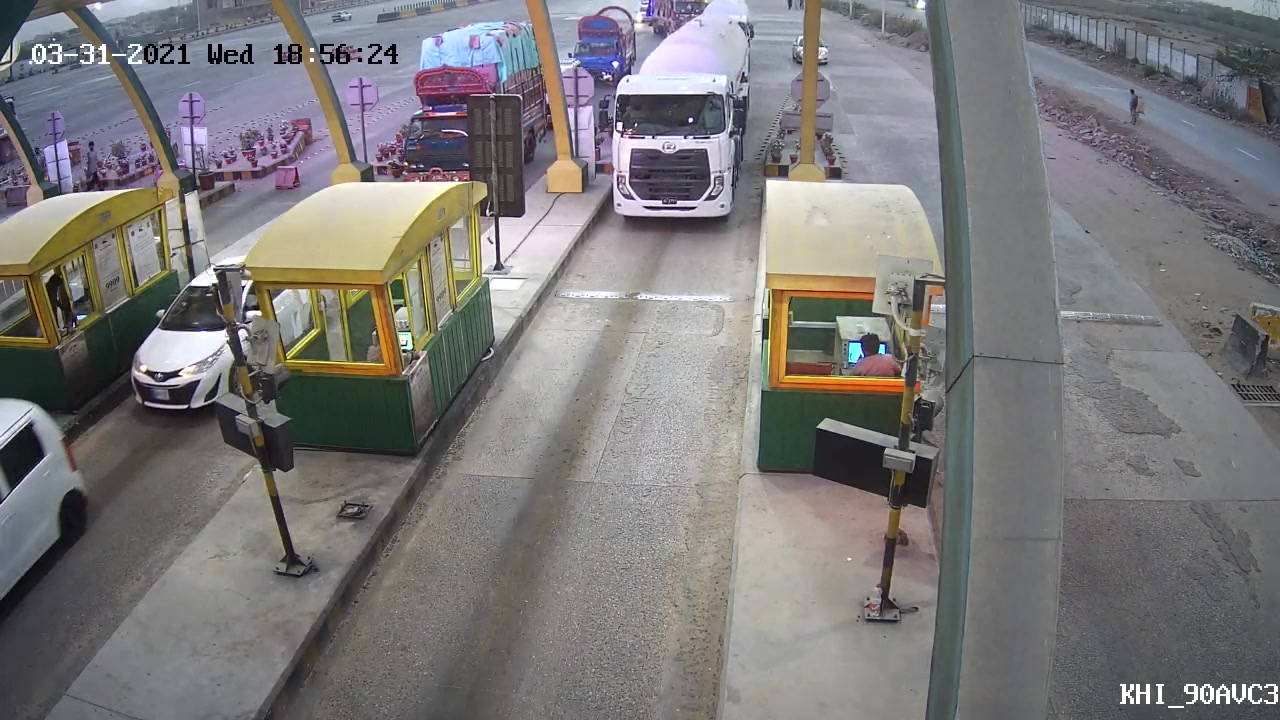F6: (603, 18, 758, 225)
